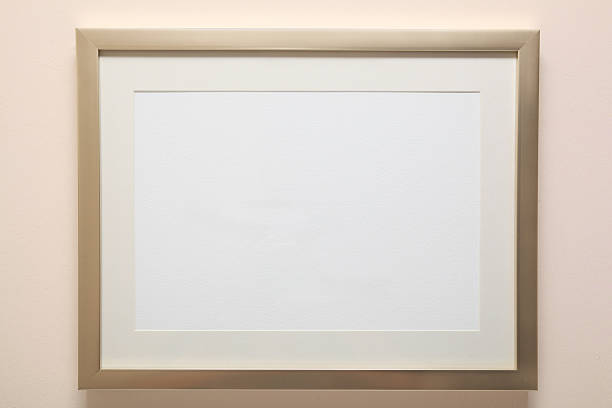dikdortgen: (76, 24, 538, 390)
